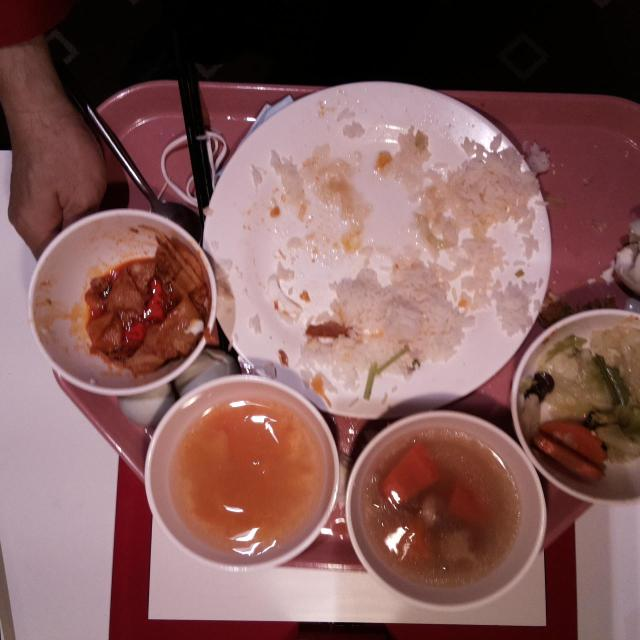Rice: (445, 144, 551, 336), (304, 262, 457, 384)
Vegetable: (542, 327, 638, 465)
